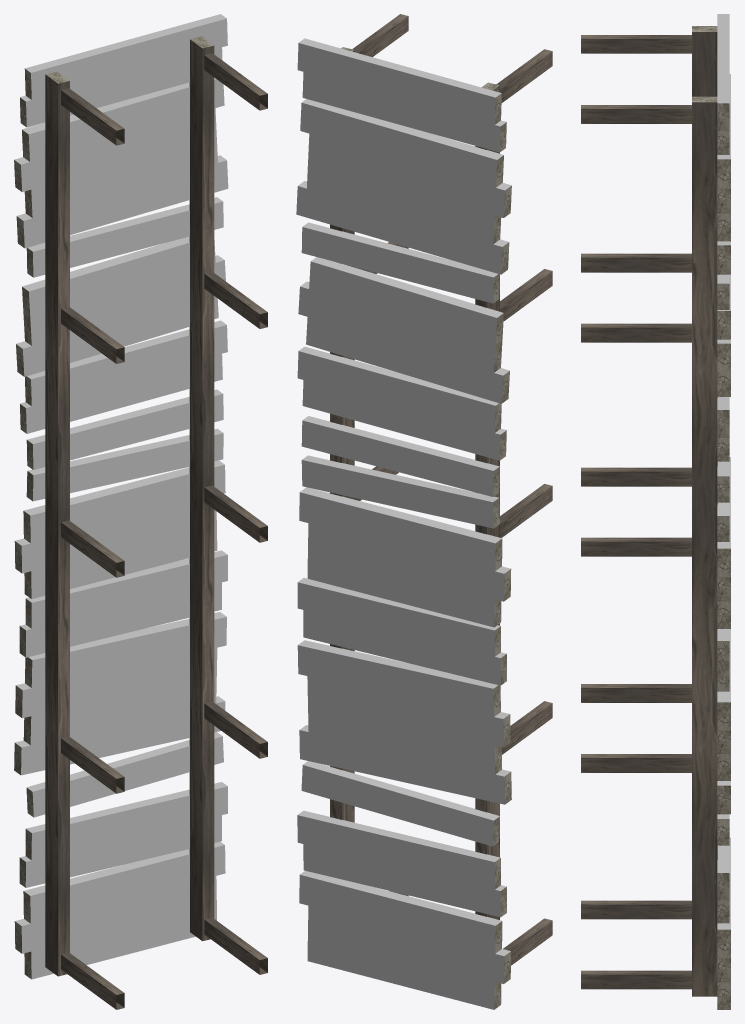
The model's file is Deck_D.fbx.
The picture shows the model from 3 angles, left to right: view 1: azimuth 30°, elevation 25°; view 2: azimuth 150°, elevation 25°; view 3: azimuth 270°, elevation 25°; orthographic projection.
Parts seen in each view (by area): view 1: Deck_D; view 2: Deck_D; view 3: Deck_D.
Boxes of the visible parts, bbox=[...] form: Deck_D: bbox=[14, 14, 267, 1009]; Deck_D: bbox=[296, 14, 552, 1009]; Deck_D: bbox=[581, 14, 730, 1009].
Size of the model in its own units: 3.55 by 14.94 by 2.22.
